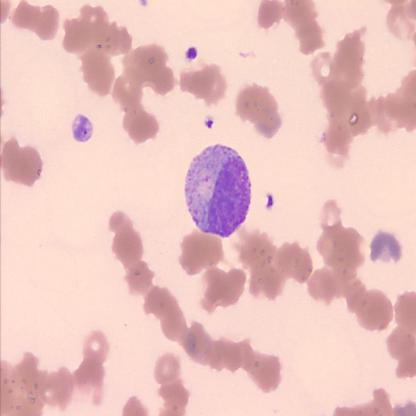Metamyelocyte: (181, 141, 253, 239)
